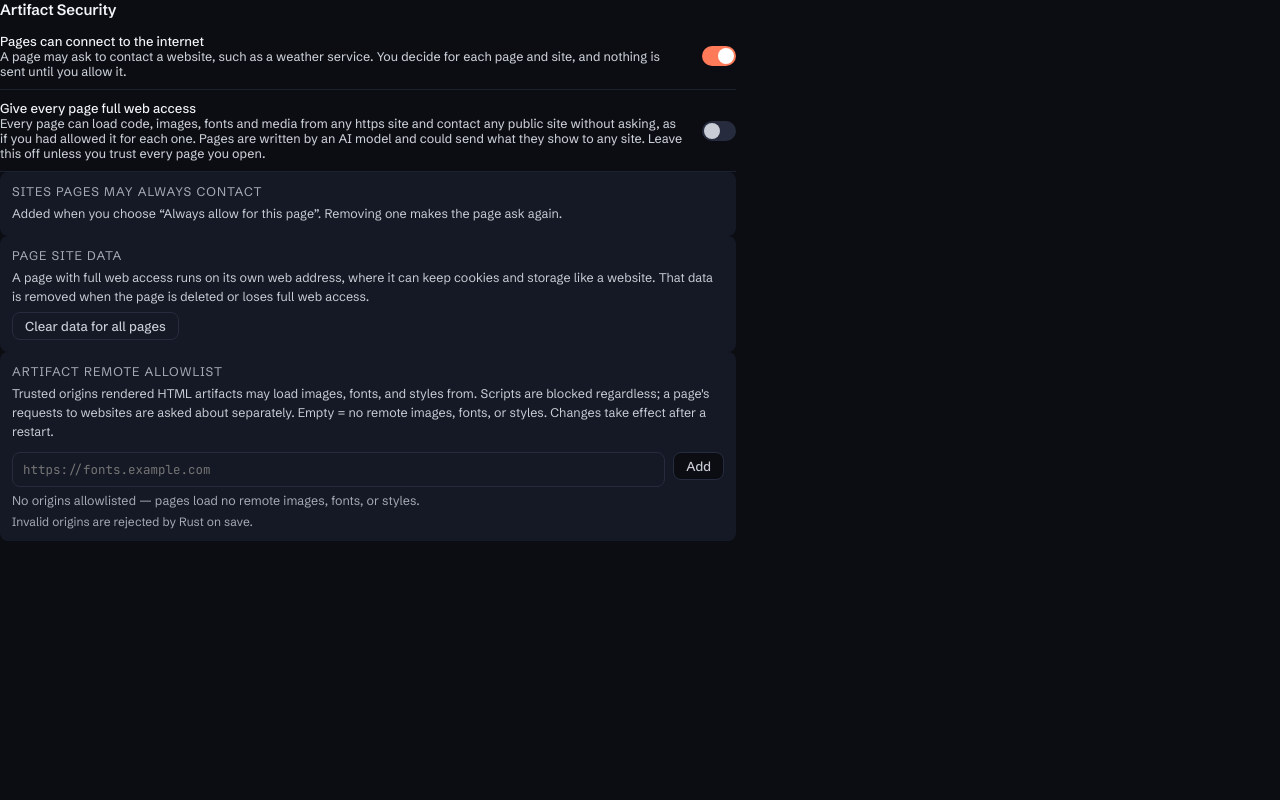
Test: ArtifactSecuritySection page site data › says when some data could not be cleared
Click the button "Clear data for all pages": (95, 326) [12,312,179,340]
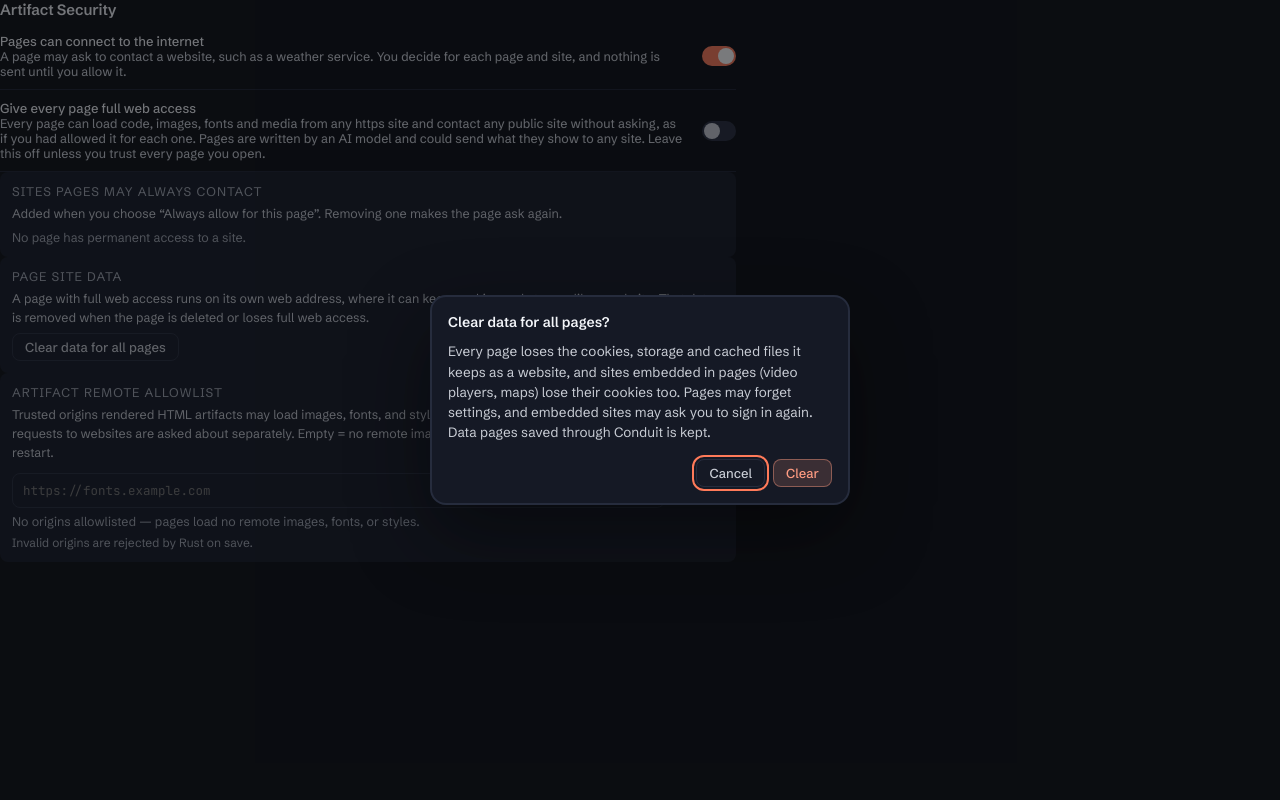
Click the button "Clear": (802, 473) [773,459,832,487]
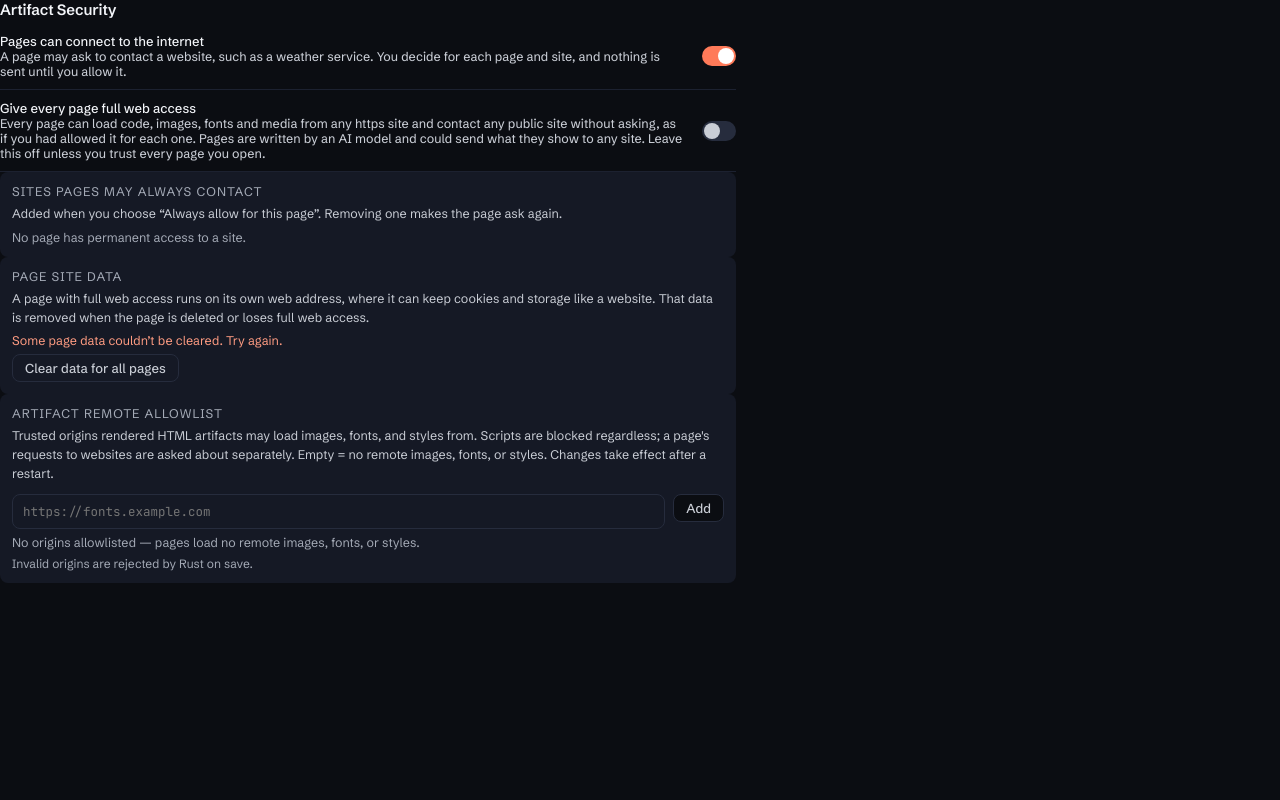
Check: the message reads "Some page data couldn’t be cleared. Try again.", box [12,333,282,348]
